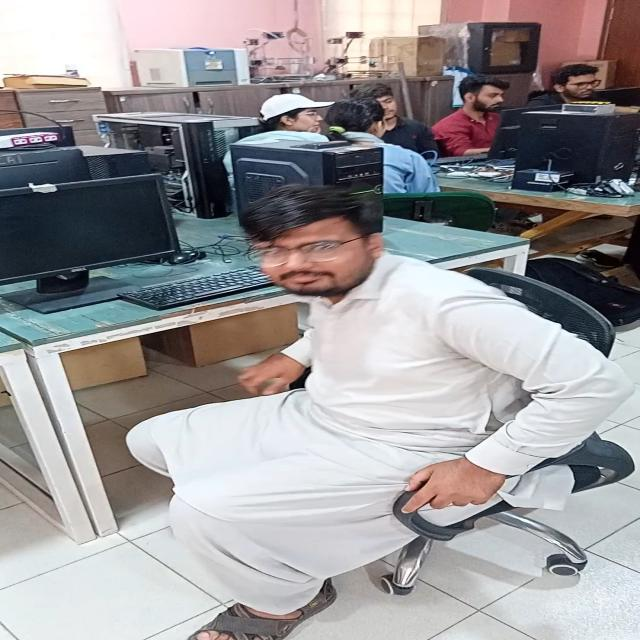dress: (120, 248, 640, 610)
glasses: (249, 245, 373, 264)
